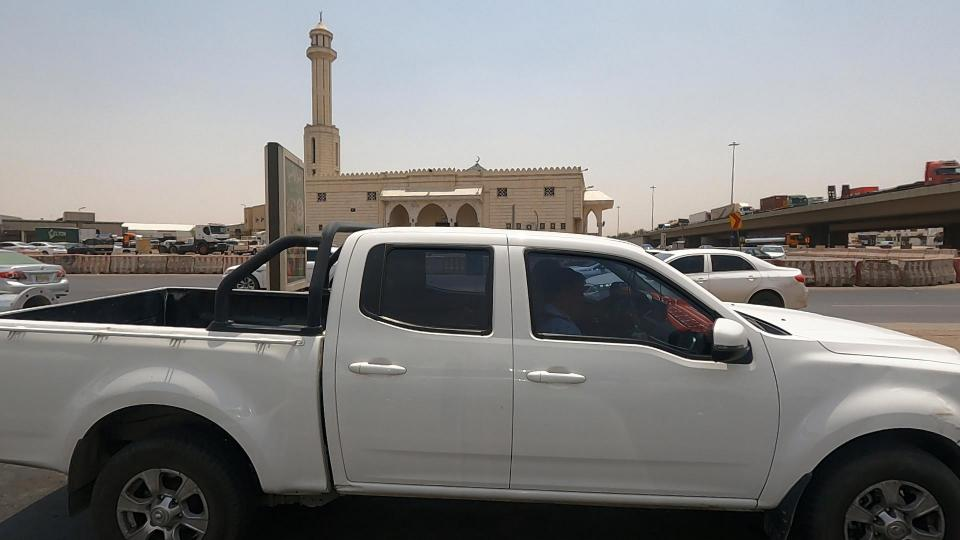CONSTRUCTION_ROAD: (741, 229, 960, 315), (56, 239, 215, 296), (163, 229, 278, 290)
